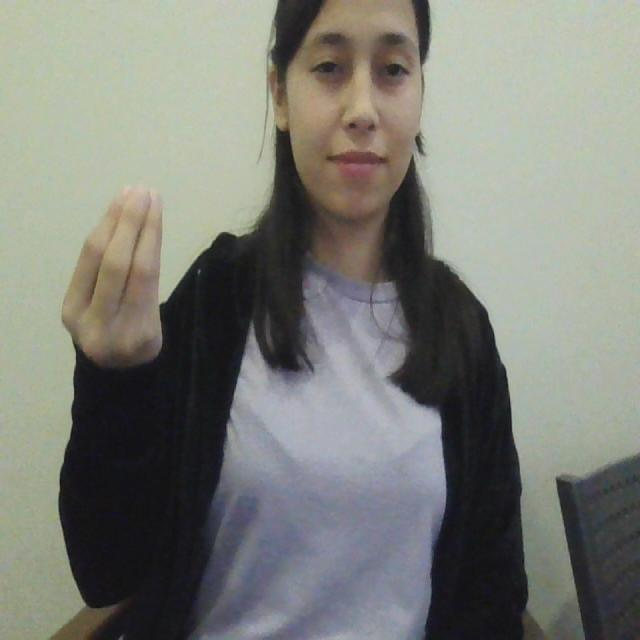iyi: (58, 175, 176, 366)
